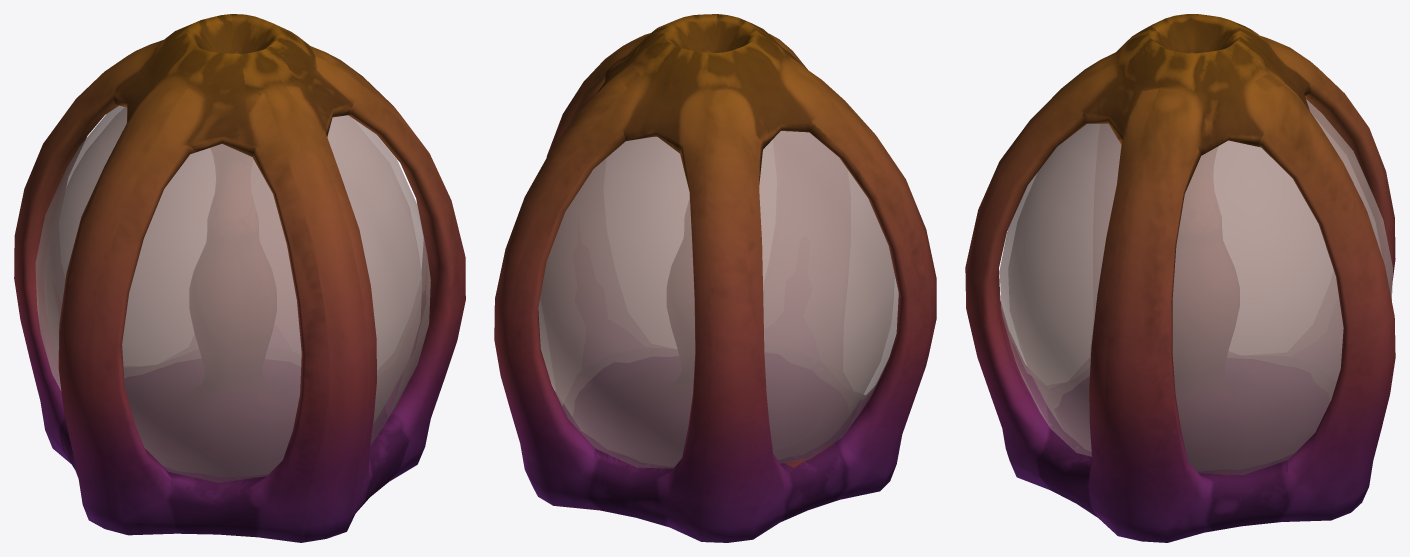
Rendered from water_pod_plant.fbx.
3 renders of one model, left to right at view 1: azimuth 30°, elevation 25°; view 2: azimuth 150°, elevation 25°; view 3: azimuth 270°, elevation 25°, orthographic.
Parts seen in each view (by area): view 1: polySurface20; view 2: polySurface20; view 3: polySurface20.
Boxes of the visible parts, bbox=[...] form: polySurface20: bbox=[14, 14, 465, 542]; polySurface20: bbox=[494, 14, 936, 542]; polySurface20: bbox=[965, 14, 1395, 542].
Size of the model in its own units: 137 by 146 by 130.
2 materials, 1 textured.
